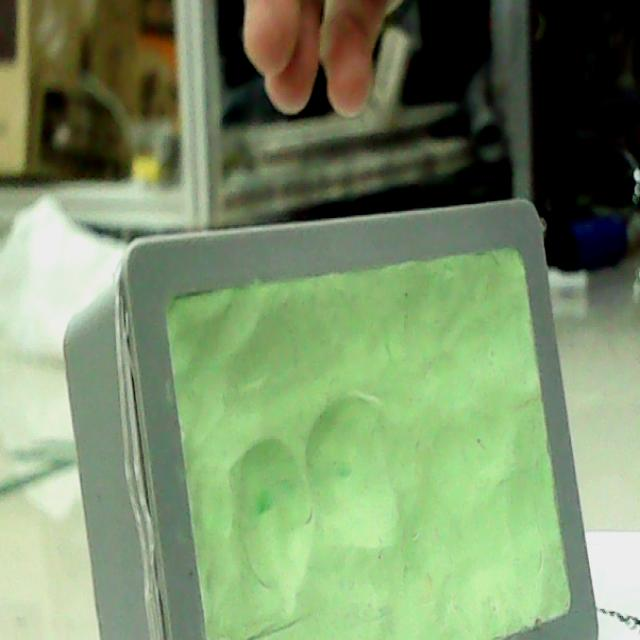block: (52, 197, 604, 640)
